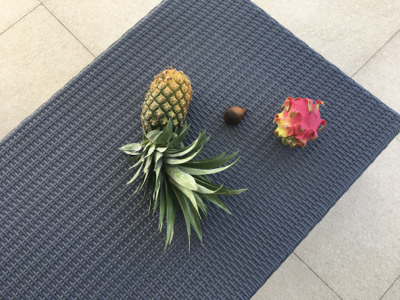dragon fruit: (274, 96, 326, 150)
pineapple: (118, 68, 249, 251)
snake fruit: (224, 106, 247, 124)
